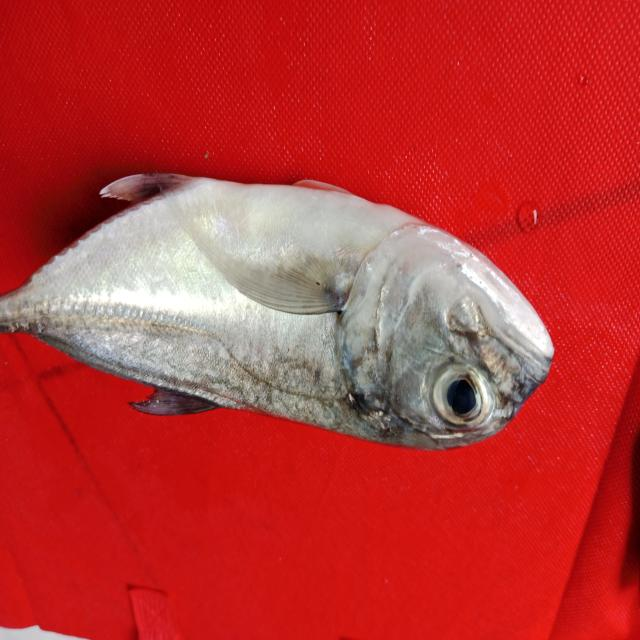ikan: (8, 123, 564, 477)
